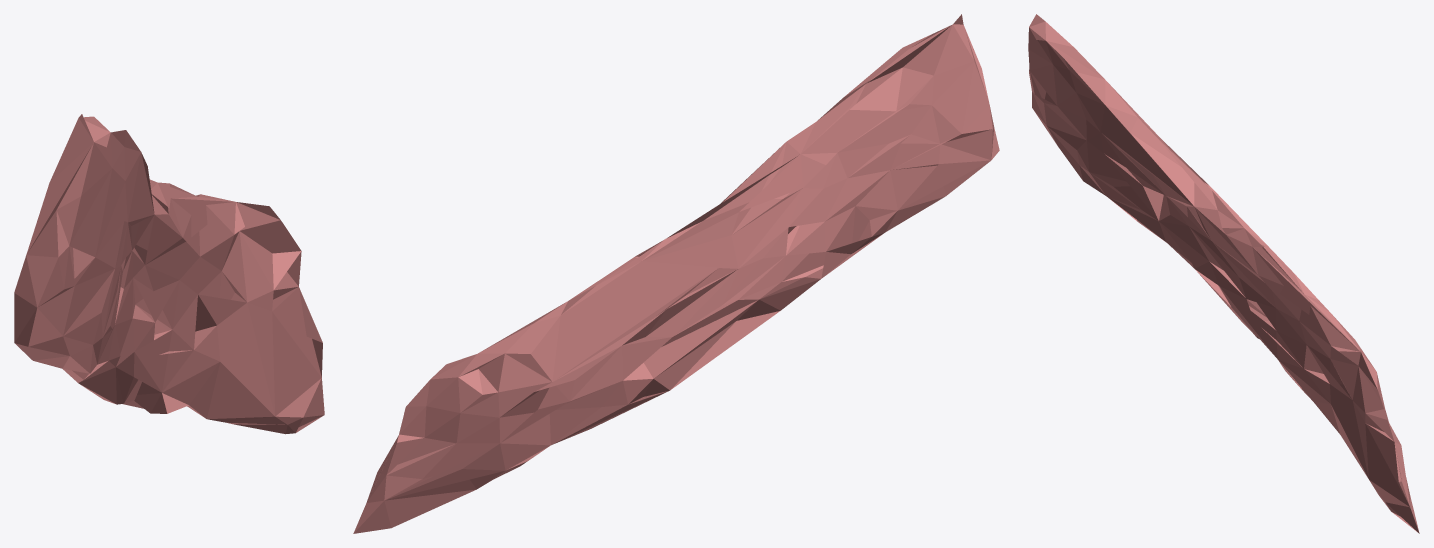
The model's file is Teres_major_muscle.r.glb.
3 renders of one model, left to right at view 1: azimuth 30°, elevation 25°; view 2: azimuth 150°, elevation 25°; view 3: azimuth 270°, elevation 25°, orthographic. The views are drawn at different scales.
Parts seen in each view (by area): view 1: Teres_major_muscle.r; view 2: Teres_major_muscle.r; view 3: Teres_major_muscle.r.
Part boxes in pixels (bbox=[...]): Teres_major_muscle.r: bbox=[14, 114, 324, 434]; Teres_major_muscle.r: bbox=[353, 14, 999, 533]; Teres_major_muscle.r: bbox=[1028, 14, 1419, 533].
Size of the model in its own units: 0.0813 by 0.0832 by 0.0803.
